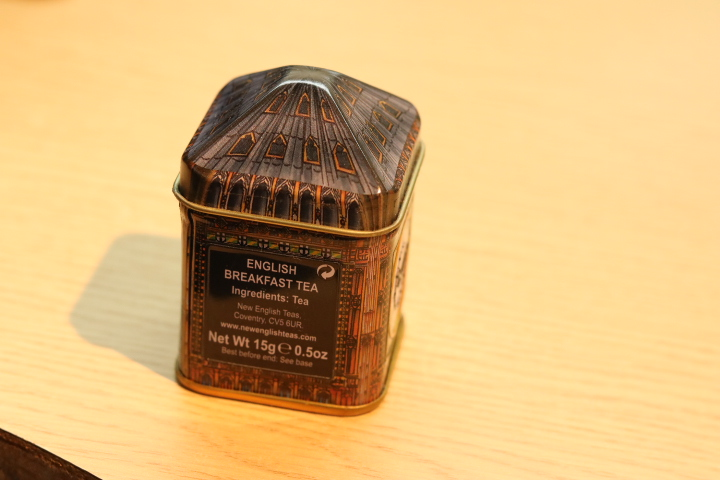Big Ben: (158, 57, 435, 432)
